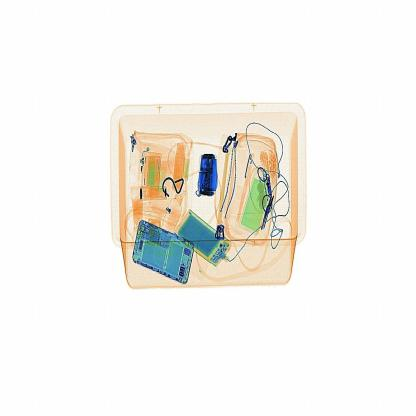scissors: (193, 146, 227, 198)
